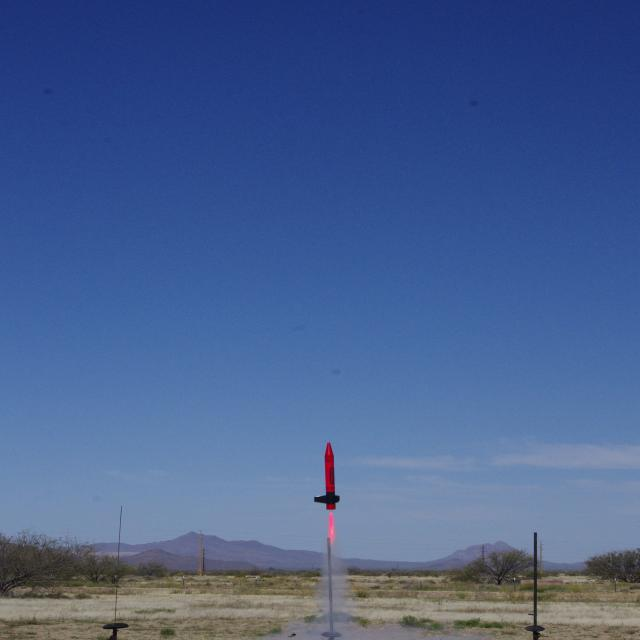Rocket: (314, 442, 341, 511)
